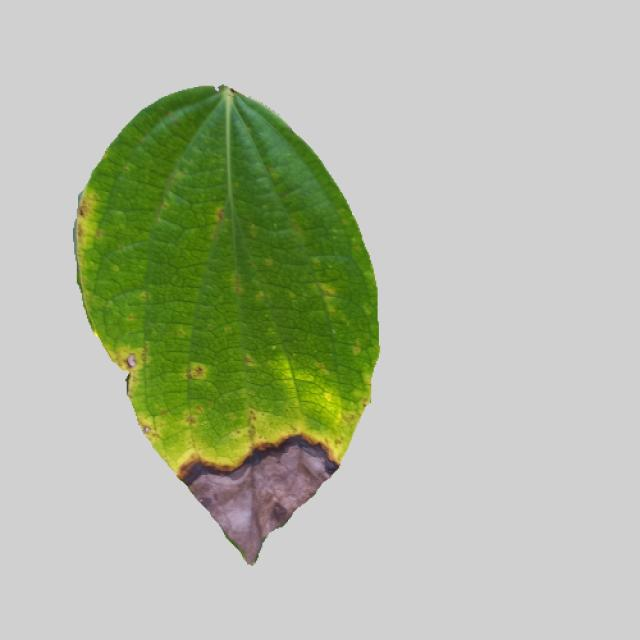leaf-blight: (68, 93, 386, 564)
